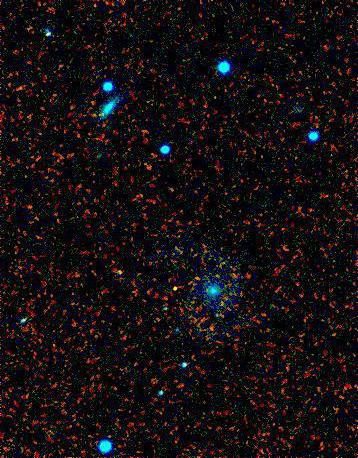star: (160, 277, 190, 307)
